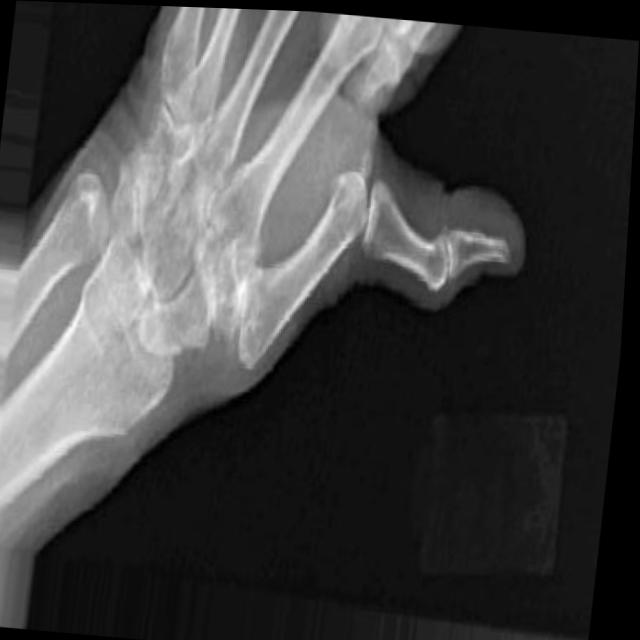fracture: (344, 151, 393, 276)
